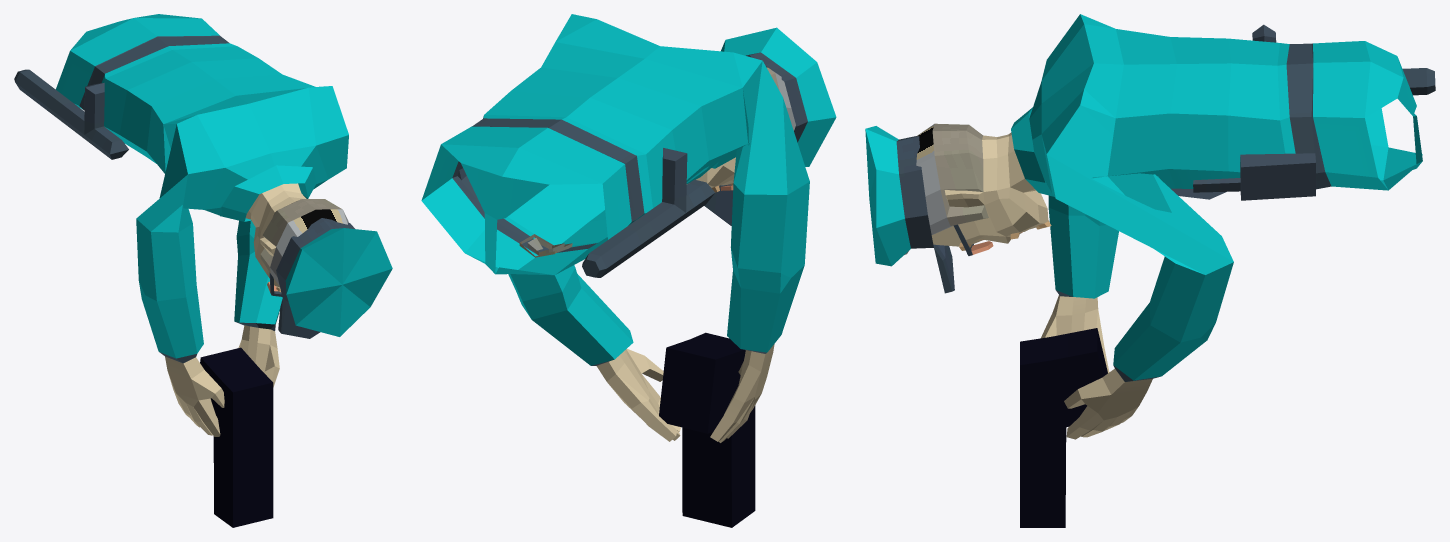
Rendered from 237_enemy_cop.gltf.
3 views of the same model, side by side, from view 1: azimuth 30°, elevation 25°; view 2: azimuth 150°, elevation 25°; view 3: azimuth 270°, elevation 25° (orthographic). The views are drawn at different scales.
Visible parts, largest first — view 1: enemy_cop; view 2: enemy_cop; view 3: enemy_cop.
Boxes of the visible parts, bbox=[...] form: enemy_cop: bbox=[14, 14, 392, 527]; enemy_cop: bbox=[421, 14, 836, 527]; enemy_cop: bbox=[865, 14, 1435, 527].
Size of the model in its own units: 1.04 by 1.88 by 2.04.
Materials: 1 (1 with a texture image).
